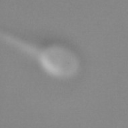normal: (1, 25, 40, 60)
